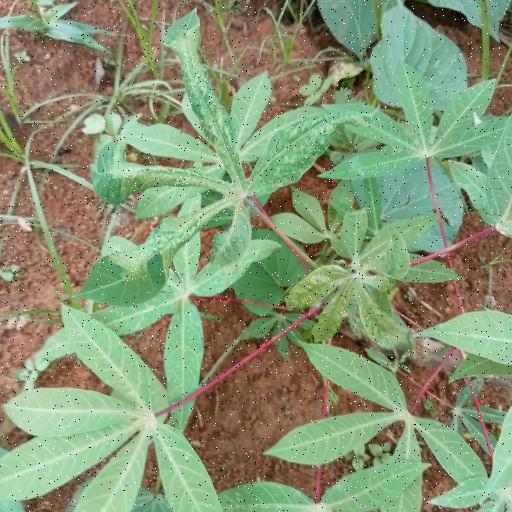Cassava_Mosaic: (88, 23, 360, 322), (0, 308, 227, 512)
